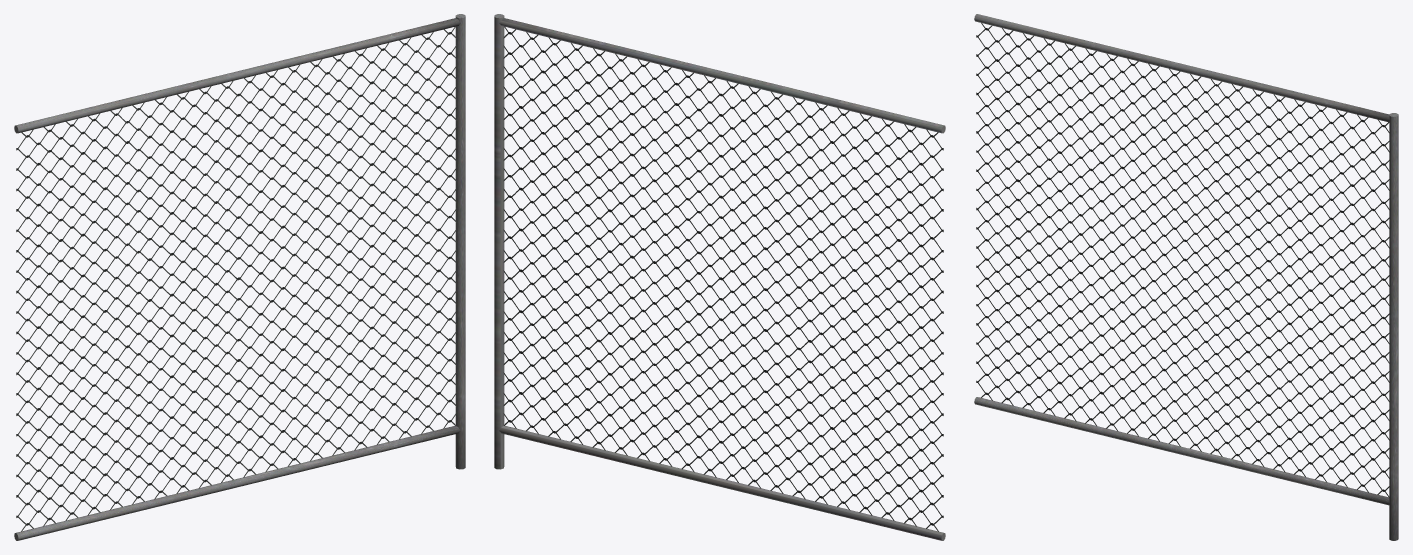
Rendered from fence_site_chainlink_sml-A.fbx.
3 renders of one model, left to right at view 1: azimuth 30°, elevation 25°; view 2: azimuth 150°, elevation 25°; view 3: azimuth 330°, elevation 25°, orthographic. The views are drawn at different scales.
Visible parts, largest first — view 1: fence_site_chainlink_sml-A; view 2: fence_site_chainlink_sml-A; view 3: fence_site_chainlink_sml-A.
Boxes of the visible parts, <box> form: fence_site_chainlink_sml-A: <box>14,14,465,540</box>; fence_site_chainlink_sml-A: <box>494,14,945,540</box>; fence_site_chainlink_sml-A: <box>974,14,1398,540</box>.
Bounding box in the file's own units: 2.03 × 1.95 × 0.0408.
